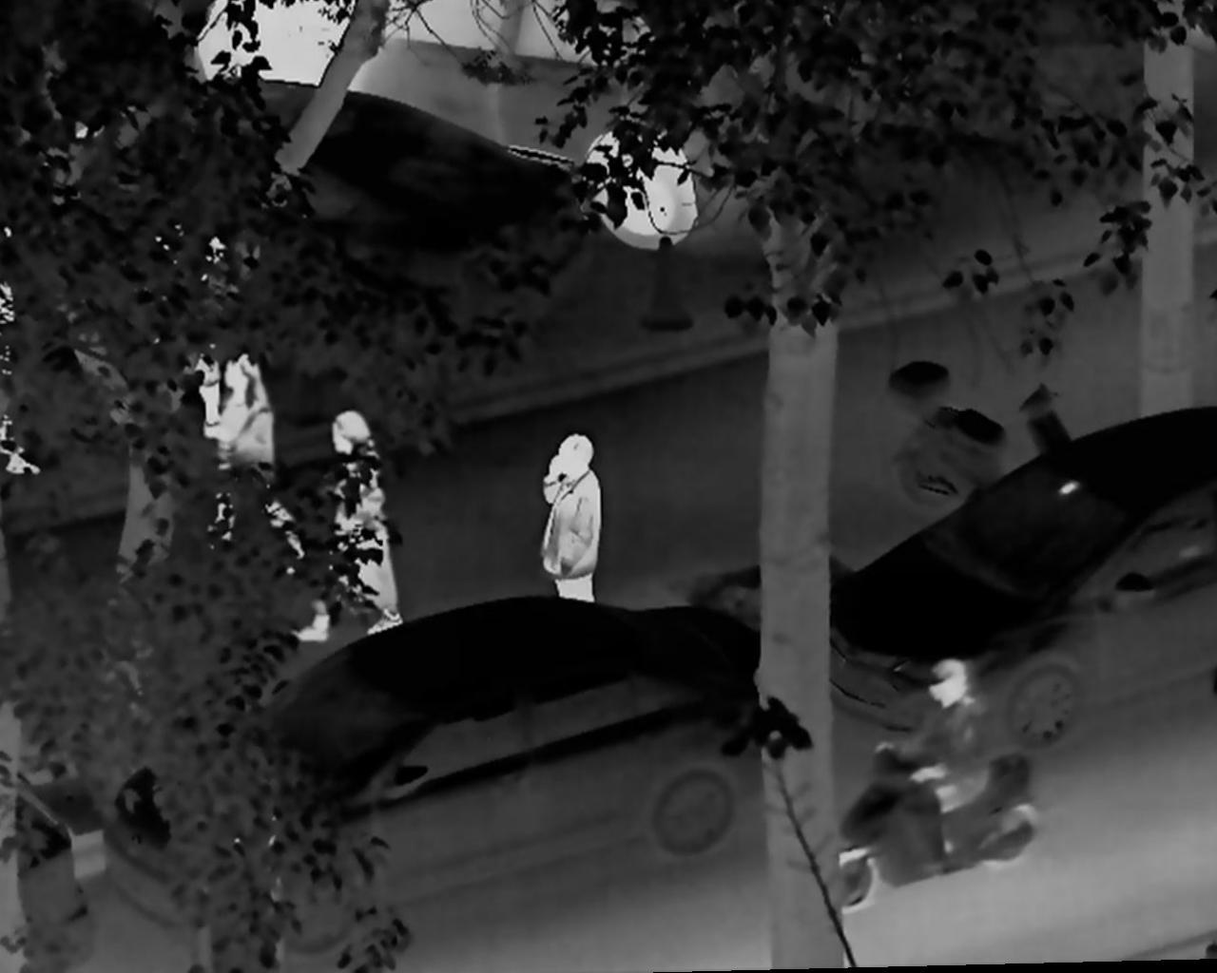person: (288, 410, 411, 643), (201, 340, 310, 582), (876, 649, 991, 858), (534, 428, 604, 609), (179, 214, 222, 443)
